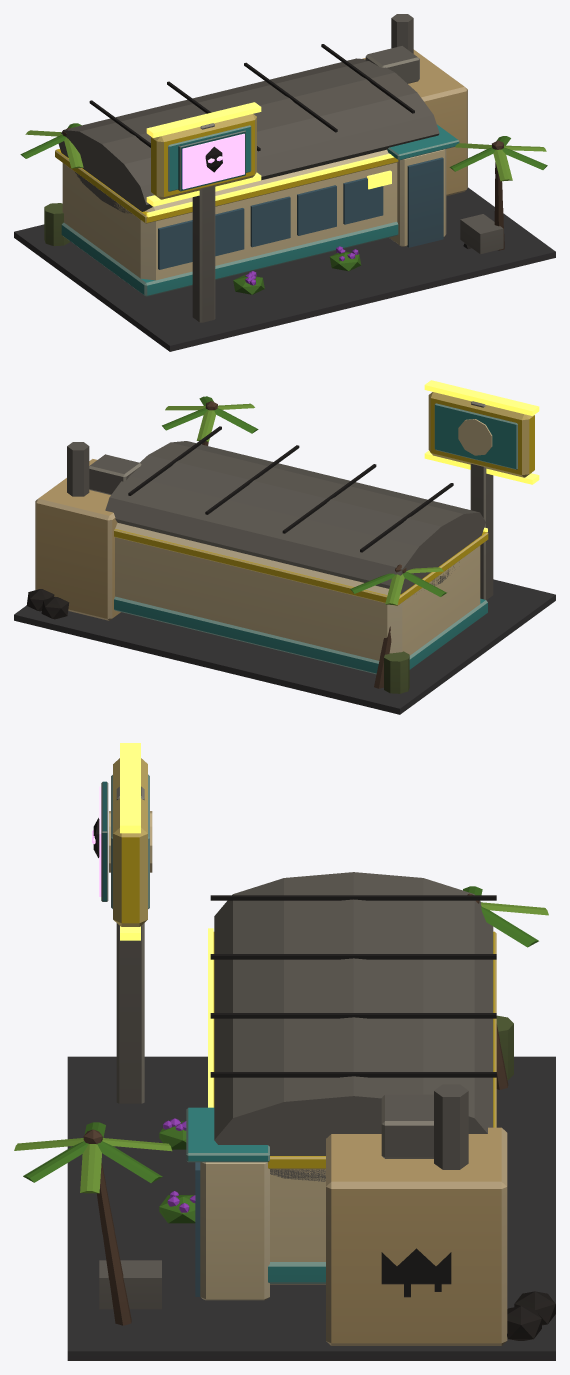
File: n_diner.glb
The picture shows the model from 3 angles, top to bottom: view 1: azimuth 30°, elevation 25°; view 2: azimuth 150°, elevation 25°; view 3: azimuth 270°, elevation 25°; orthographic projection. The views are drawn at different scales.
Parts seen in each view (by area): view 1: n_diner; view 2: n_diner; view 3: n_diner.
Boxes of the visible parts, x1=… form: n_diner: x1=14, y1=14, x2=555, y2=351; n_diner: x1=14, y1=380, x2=555, y2=714; n_diner: x1=14, y1=743, x2=555, y2=1360.
Bounding box in the file's own units: 10.46 × 5.11 × 7.77.
